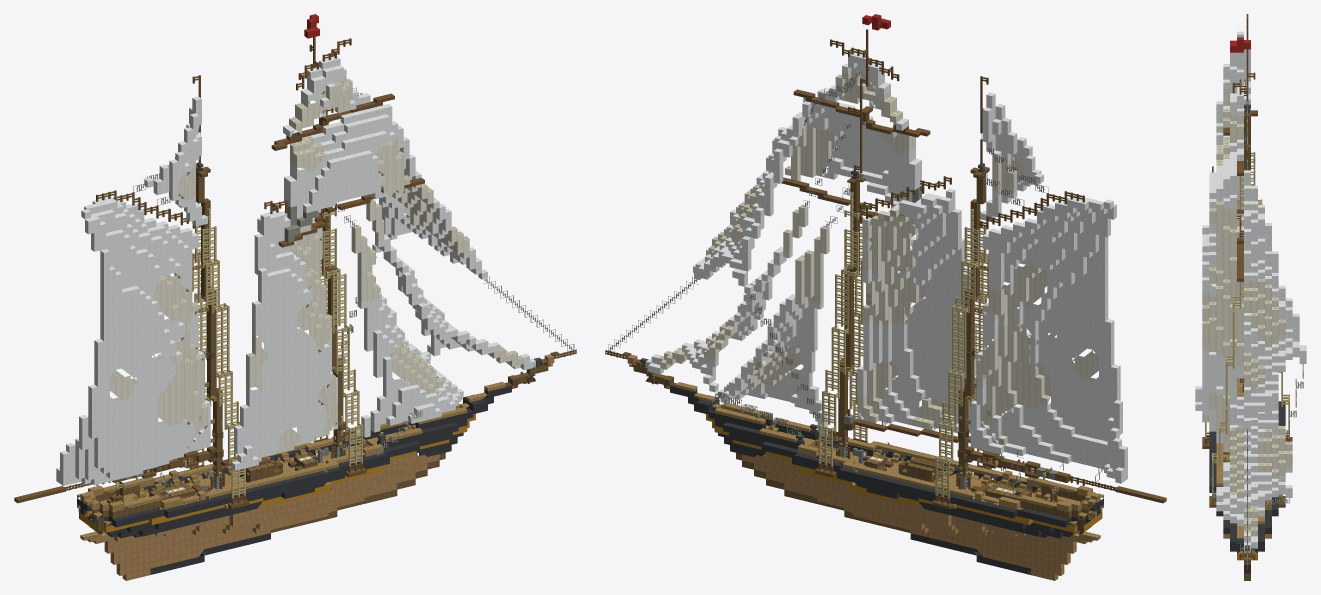
The picture shows the model from 3 angles, left to right: view 1: azimuth 30°, elevation 25°; view 2: azimuth 150°, elevation 25°; view 3: azimuth 270°, elevation 25°; orthographic projection.
Parts seen in each view (by area): view 1: Object_30, Object_7, Object_27, Object_10, Object_4, Object_16, Object_20, Object_24, Object_11, Object_13, Object_15, Object_17; view 2: Object_30, Object_7, Object_27, Object_4, Object_10, Object_16, Object_13, Object_20, Object_24, Object_11, Object_15, Object_17 (+1 smaller); view 3: Object_30, Object_7, Object_10, Object_4, Object_16, Object_20, Object_13, Object_27.
Boxes of the visible parts, bbox=[...] form: Object_30: bbox=[56, 14, 535, 485]; Object_7: bbox=[110, 76, 523, 453]; Object_27: bbox=[84, 169, 554, 580]; Object_10: bbox=[77, 386, 511, 574]; Object_4: bbox=[135, 208, 362, 498]; Object_16: bbox=[14, 93, 547, 542]; Object_20: bbox=[96, 37, 529, 504]; Object_24: bbox=[79, 413, 475, 532]; Object_11: bbox=[80, 96, 383, 512]; Object_13: bbox=[87, 87, 574, 497]; Object_15: bbox=[92, 408, 459, 509]; Object_17: bbox=[77, 271, 415, 516]; Object_30: bbox=[645, 14, 1127, 483]; Object_7: bbox=[658, 71, 1098, 445]; Object_27: bbox=[627, 170, 1096, 580]; Object_4: bbox=[818, 192, 1052, 498]; Object_10: bbox=[670, 386, 1103, 574]; Object_16: bbox=[634, 89, 1166, 542]; Object_13: bbox=[608, 70, 1104, 497]; Object_20: bbox=[652, 29, 1086, 504]; Object_24: bbox=[706, 414, 1101, 532]; Object_11: bbox=[798, 92, 1100, 512]; Object_15: bbox=[721, 408, 1088, 509]; Object_17: bbox=[766, 272, 1103, 516]; Object_30: bbox=[1195, 31, 1306, 550]; Object_7: bbox=[1202, 89, 1292, 536]; Object_10: bbox=[1209, 401, 1285, 573]; Object_4: bbox=[1205, 152, 1289, 496]; Object_16: bbox=[1202, 110, 1292, 538]; Object_20: bbox=[1205, 14, 1289, 559]; Object_13: bbox=[1212, 79, 1303, 564]; Object_27: bbox=[1223, 110, 1271, 580].
Size of what is drawn, in the model's own units: 93 by 82 by 16.
2 materials, 2 textured.
